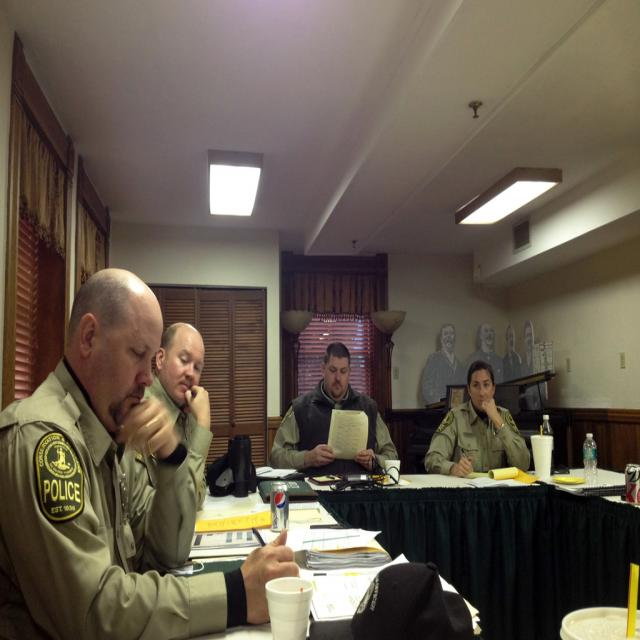desk: (166, 465, 640, 639)
laptop: (326, 408, 368, 459)
person: (0, 267, 299, 635), (268, 341, 403, 478), (140, 320, 214, 510), (424, 354, 531, 476), (422, 322, 466, 407)
